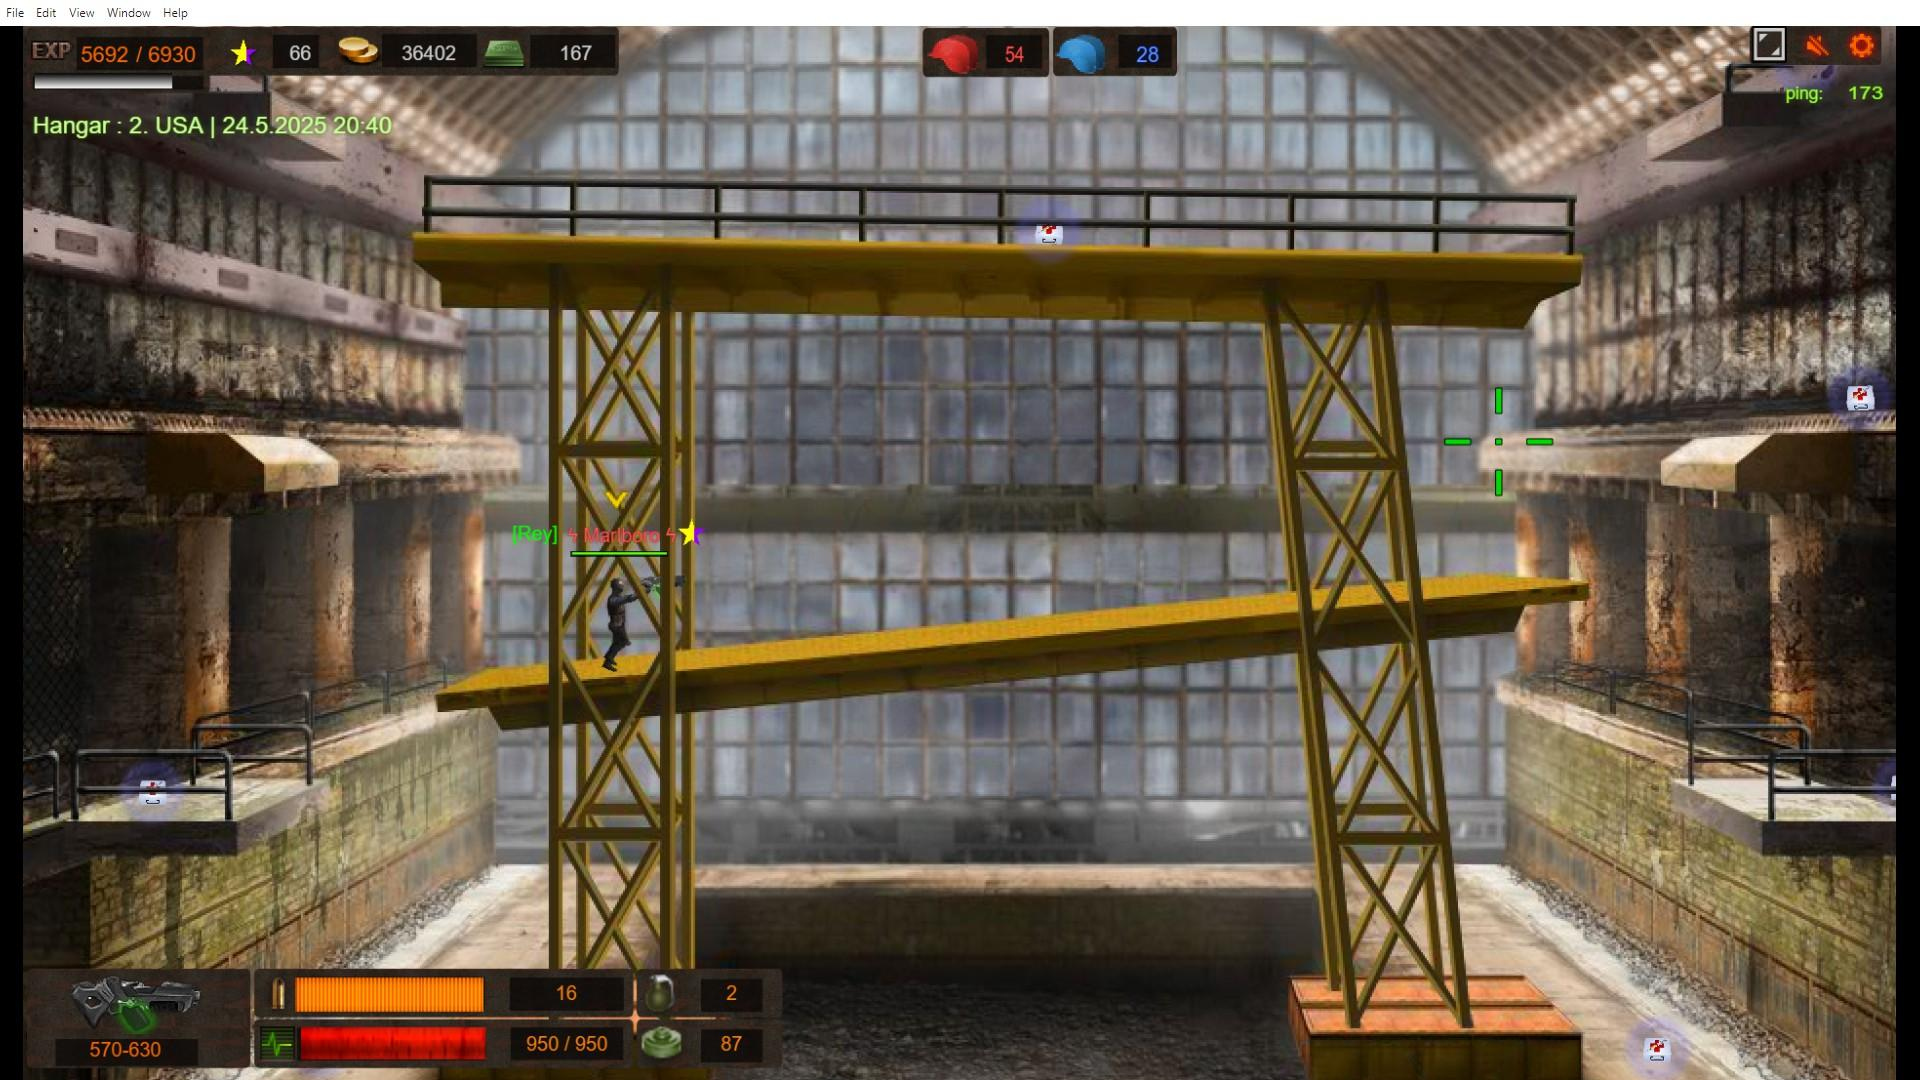enemy: (604, 574, 634, 676)
